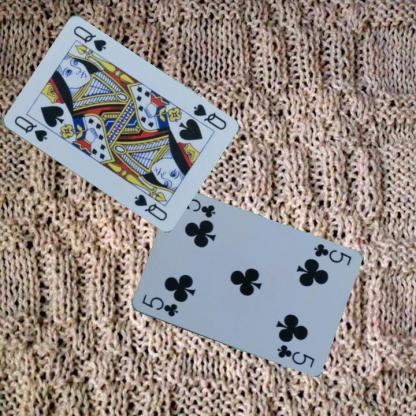5c: (138, 291, 180, 318), (311, 241, 352, 267)
Qs: (190, 101, 228, 132), (11, 114, 49, 144)
